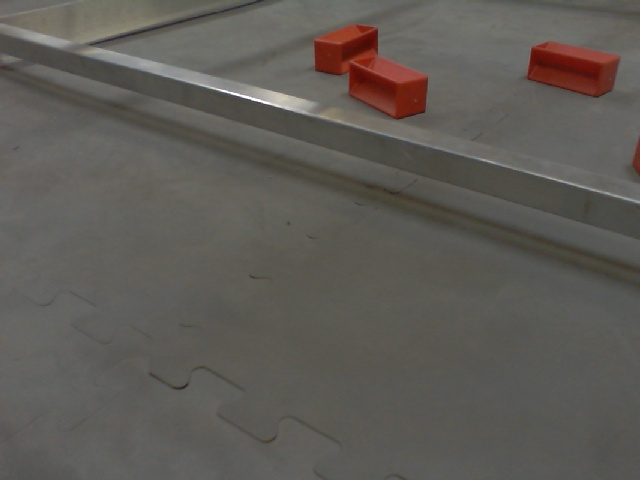RedSample: (525, 39, 622, 103), (348, 53, 432, 117), (312, 22, 380, 75)
